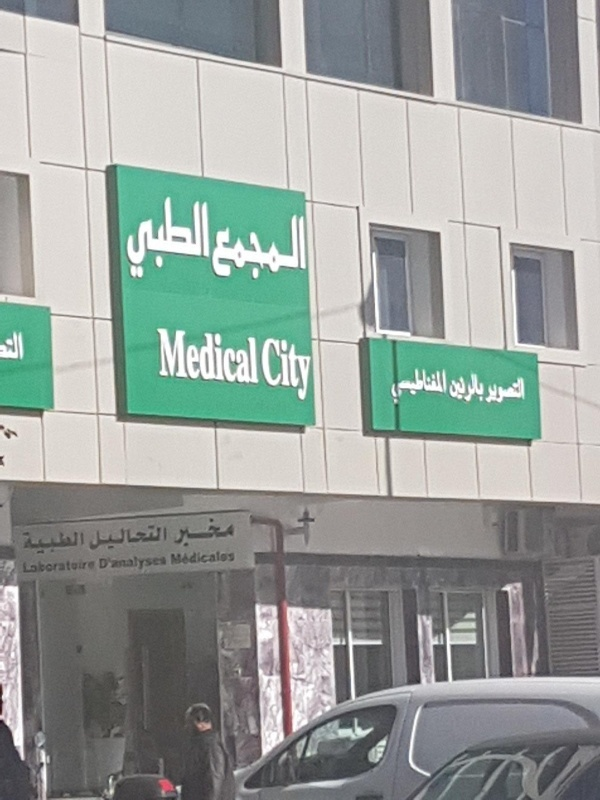text: (129, 190, 144, 281), (145, 190, 160, 281), (161, 190, 176, 281), (177, 190, 192, 281), (193, 190, 208, 281), (225, 209, 240, 280), (241, 209, 256, 280), (257, 209, 272, 280), (273, 209, 288, 280), (289, 209, 304, 280), (273, 337, 288, 405), (289, 337, 304, 405), (161, 327, 176, 386), (177, 327, 192, 386), (193, 327, 208, 386), (209, 327, 224, 386), (225, 327, 240, 386), (241, 327, 256, 386), (259, 337, 272, 405), (215, 209, 224, 280), (401, 365, 416, 407), (417, 365, 432, 407), (433, 365, 448, 407), (305, 337, 313, 405), (1, 329, 16, 363), (177, 515, 192, 548), (193, 515, 208, 548), (209, 515, 224, 548), (465, 372, 480, 404), (513, 377, 529, 406), (389, 365, 400, 407), (450, 372, 464, 404), (497, 377, 512, 406), (97, 523, 112, 552), (113, 523, 128, 552), (129, 523, 144, 552), (145, 523, 160, 552), (33, 529, 48, 556), (49, 529, 64, 556), (65, 529, 80, 556), (225, 515, 236, 548), (17, 329, 27, 363), (21, 529, 32, 556), (177, 548, 192, 567), (193, 548, 208, 567), (209, 548, 224, 567), (113, 554, 128, 572), (129, 554, 144, 572), (145, 554, 160, 572), (98, 554, 112, 572), (33, 559, 48, 575), (49, 559, 64, 575), (65, 559, 80, 575), (156, 327, 160, 386), (161, 523, 169, 552), (81, 559, 95, 575), (305, 209, 308, 280), (225, 548, 236, 567), (489, 377, 496, 406), (126, 190, 128, 281), (209, 190, 211, 281), (257, 327, 260, 386), (22, 559, 32, 575), (91, 523, 96, 552), (169, 548, 176, 567), (481, 372, 485, 404), (161, 554, 168, 572), (81, 529, 85, 556)
